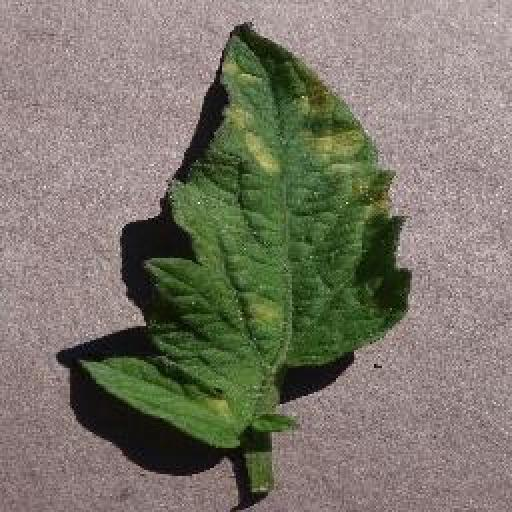disease_tomato: (75, 20, 411, 451)
